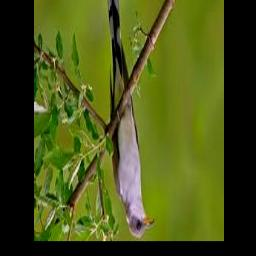Cuckoo: (105, 0, 154, 238)
